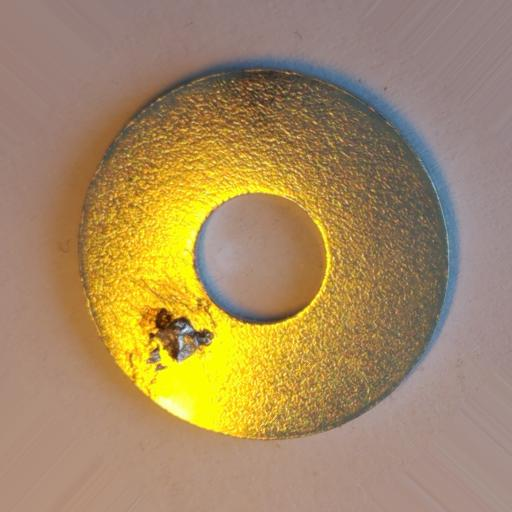excess_material: (146, 308, 214, 371)
